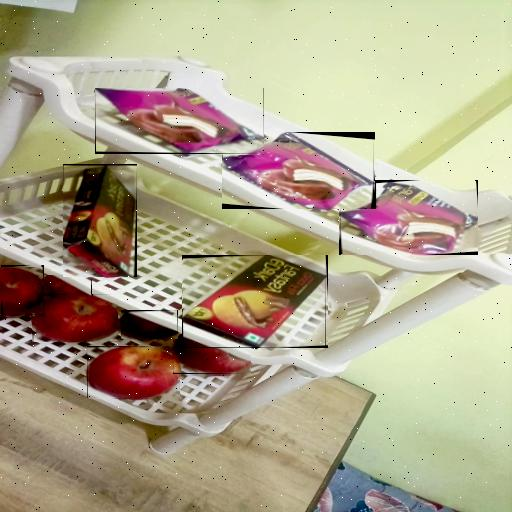Apple: (87, 347, 180, 398), (33, 294, 117, 342), (173, 334, 251, 374), (2, 268, 43, 315), (121, 312, 178, 339), (44, 275, 91, 295)
Choco Fills: (183, 255, 326, 348), (63, 165, 136, 277)
Choco Pie: (223, 132, 373, 209), (95, 88, 264, 154), (340, 182, 478, 254)
